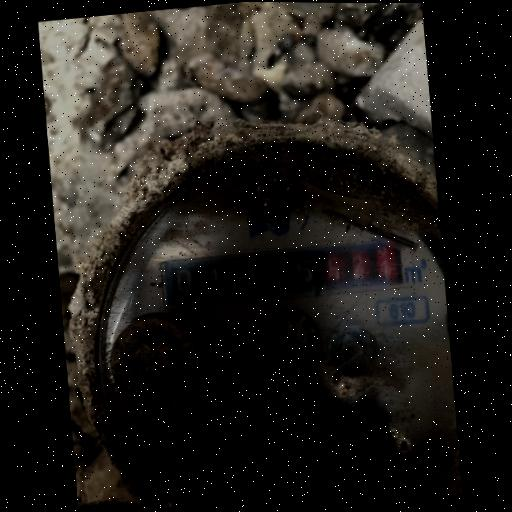0: (171, 265, 199, 300), (232, 259, 258, 295)
1: (373, 245, 400, 287), (201, 263, 229, 298)
2: (348, 250, 374, 281)
5: (291, 255, 319, 291), (322, 251, 349, 284)
7: (262, 257, 286, 294)
border_water_meter_number: (158, 234, 416, 312)
